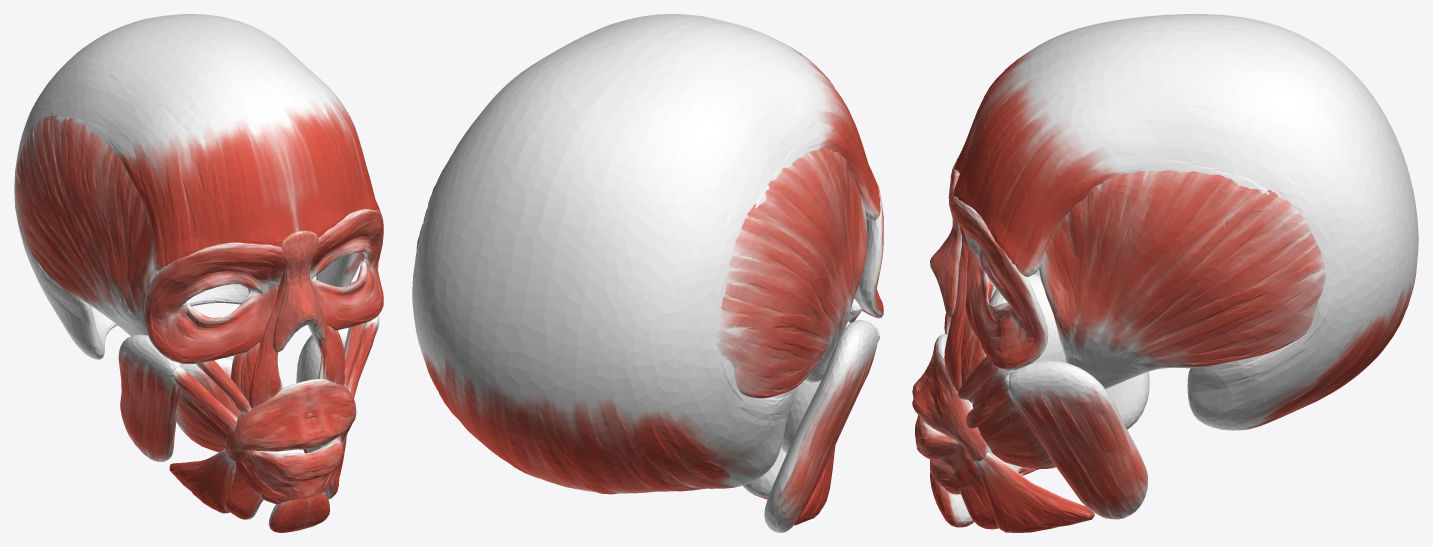
The model's file is SubTool-2-12593345.OBJ.
The picture shows the model from 3 angles, left to right: view 1: azimuth 30°, elevation 25°; view 2: azimuth 150°, elevation 25°; view 3: azimuth 270°, elevation 25°; orthographic projection. The views are drawn at different scales.
Parts seen in each view (by area): view 1: Group8294; view 2: Group8294; view 3: Group8294.
Part boxes in pixels (box(x1,y1,x2,y2)): Group8294: box(14, 14, 383, 532); Group8294: box(412, 14, 883, 532); Group8294: box(912, 14, 1418, 532).
Size of the model in its own units: 6.27 by 9.28 by 8.72.
1 material, 1 textured.
